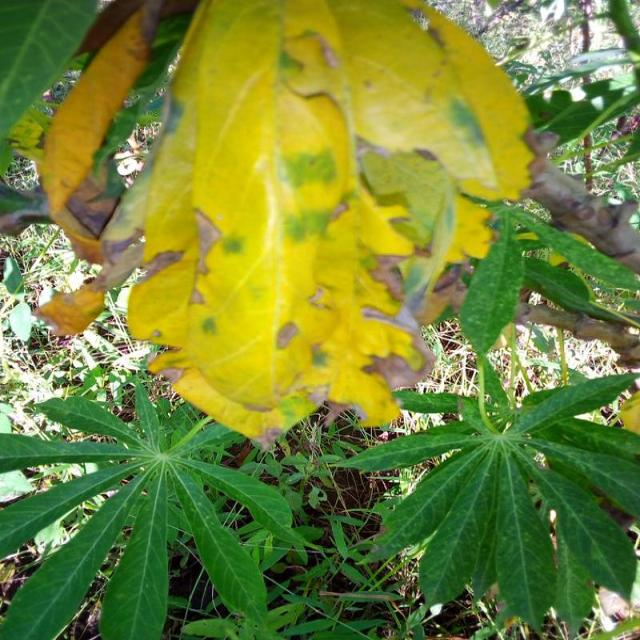cassava leaf: (109, 0, 536, 450)
